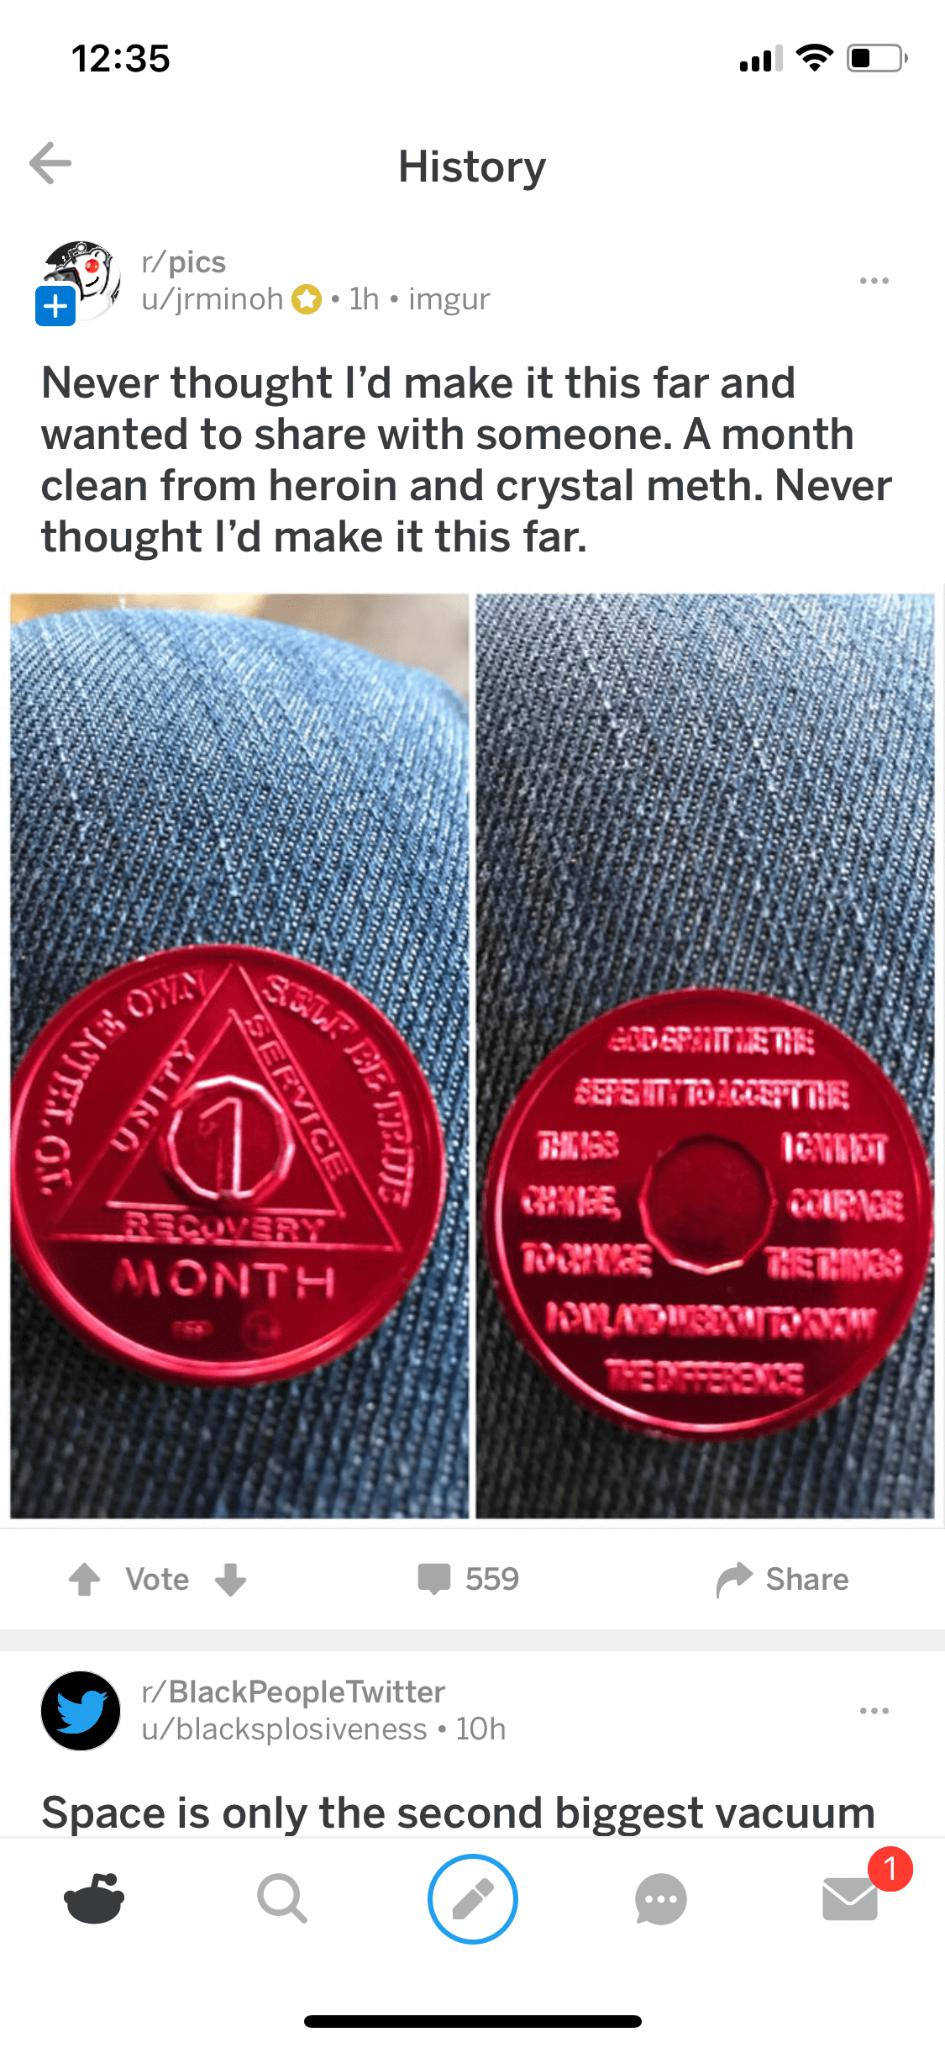Buttons: (55, 1545, 269, 1617), (382, 1539, 540, 1621), (693, 1539, 860, 1612), (18, 119, 90, 200), (844, 248, 905, 308)
